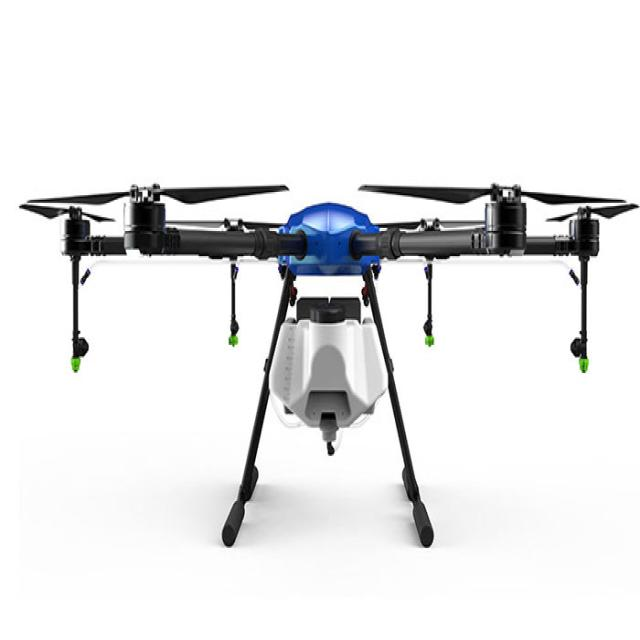drone: (32, 115, 608, 540)
